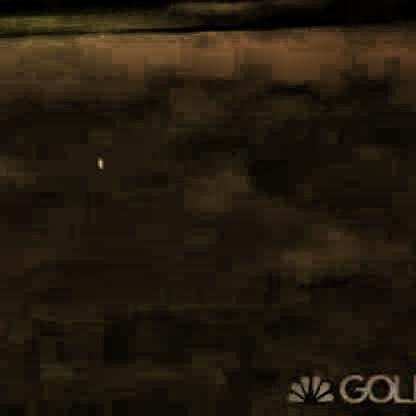golfball: (94, 152, 104, 165)
